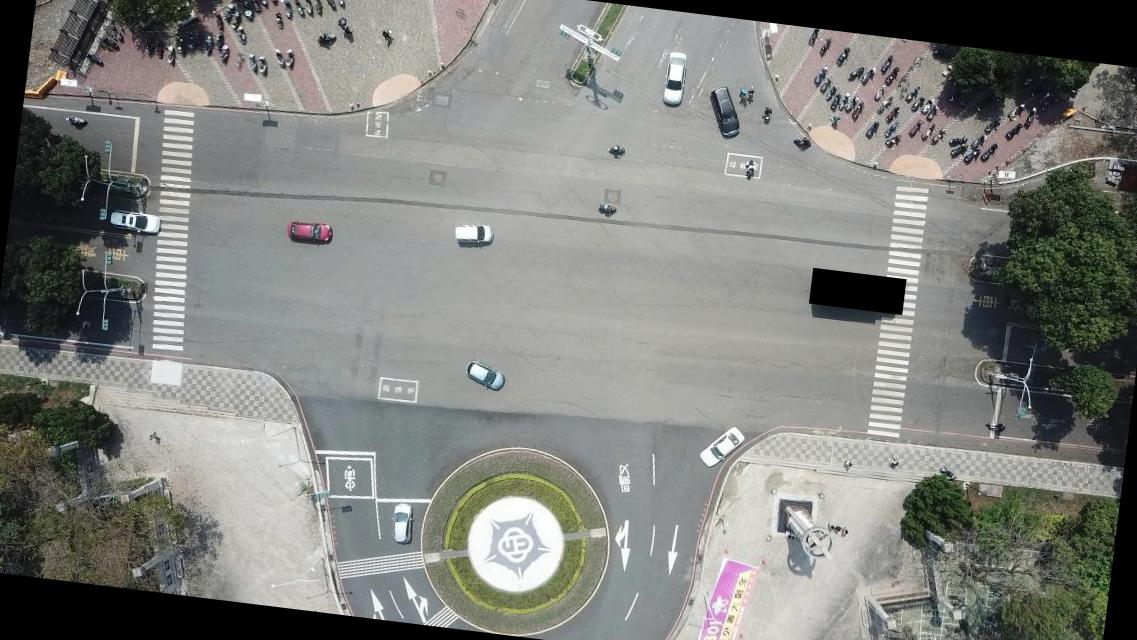vehicle: (696, 421, 746, 472), (704, 84, 746, 140), (660, 50, 689, 109), (106, 206, 163, 236), (283, 216, 333, 248), (463, 358, 507, 393), (450, 219, 495, 249)
